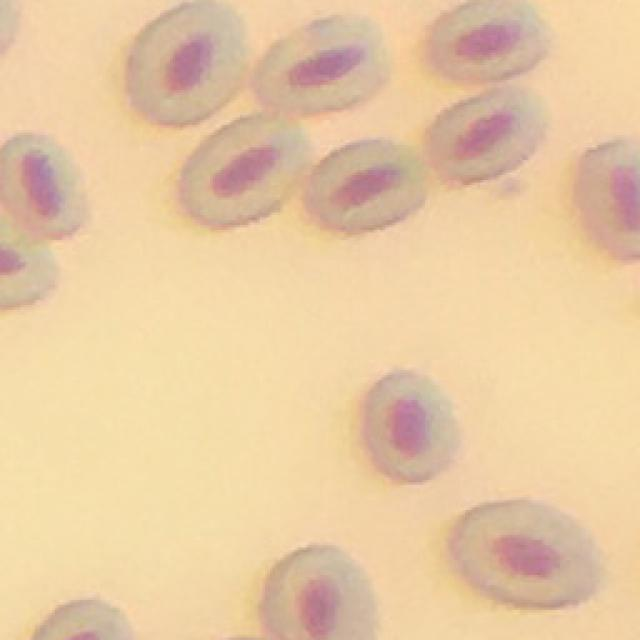RBC: (449, 500, 599, 607), (128, 4, 245, 124), (180, 116, 306, 226), (254, 16, 388, 113), (428, 88, 544, 182), (306, 140, 425, 231), (262, 545, 375, 639), (365, 371, 452, 481), (430, 0, 548, 81), (0, 134, 85, 237), (578, 141, 640, 257), (0, 218, 56, 307), (34, 600, 132, 640)
